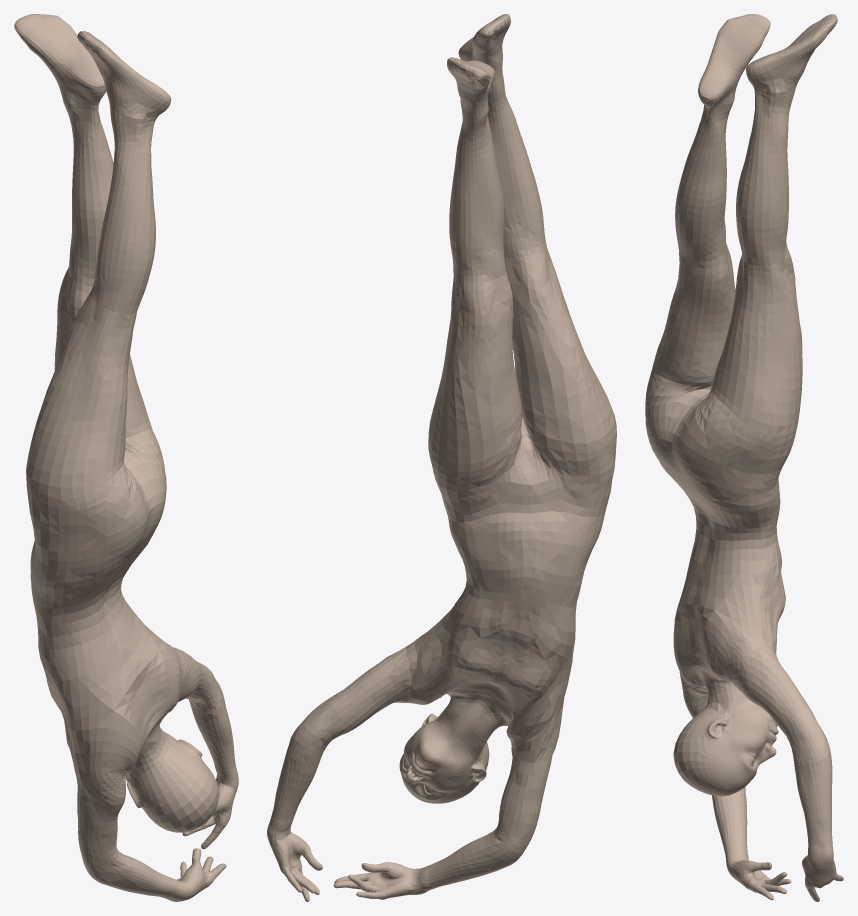
File: avatar_dancer.glb
The picture shows the model from 3 angles, left to right: view 1: azimuth 30°, elevation 25°; view 2: azimuth 150°, elevation 25°; view 3: azimuth 270°, elevation 25°; orthographic projection. The views are drawn at different scales.
Parts seen in each view (by area): view 1: world; view 2: world; view 3: world.
Boxes of the visible parts, bbox=[...] form: world: bbox=[14, 14, 238, 901]; world: bbox=[267, 14, 616, 901]; world: bbox=[645, 14, 843, 901].
Bounding box in the file's own units: 0.6151 × 1.94 × 0.4235.
